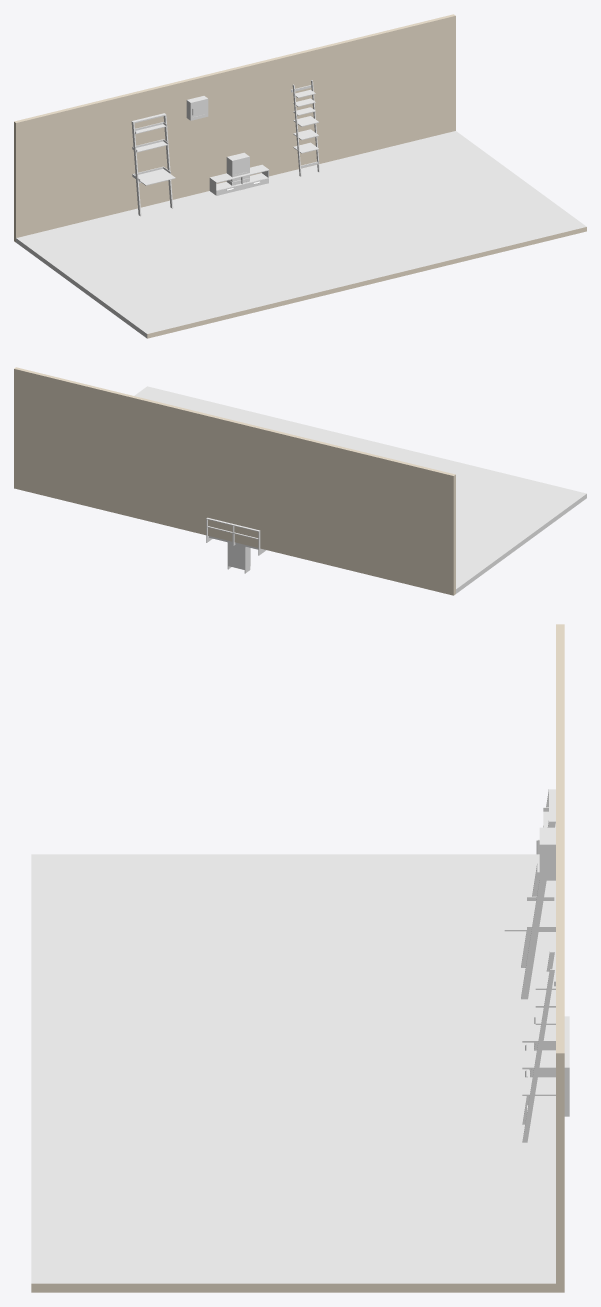
The model's file is wall_cabinet.glb.
The picture shows the model from 3 angles, top to bottom: view 1: azimuth 30°, elevation 25°; view 2: azimuth 150°, elevation 25°; view 3: azimuth 270°, elevation 25°; orthographic projection. The views are drawn at different scales.
Parts seen in each view (by area): view 1: Plane, escritorio-salon, stand-blanco, mesa-tv, stand-alto, stand-cuadro.001; view 2: Plane, stand-alto, mesa-tv; view 3: Plane, stand-blanco, escritorio-salon, stand-cuadro.001, mesa-tv.
Part boxes in pixels (x1,y1,x2,y2): Plane: [14, 14, 586, 338]; escritorio-salon: [131, 113, 175, 216]; stand-blanco: [291, 80, 319, 176]; mesa-tv: [209, 164, 269, 195]; stand-alto: [226, 152, 249, 181]; stand-cuadro.001: [186, 96, 208, 120]; Plane: [14, 367, 586, 595]; stand-alto: [227, 542, 250, 573]; mesa-tv: [206, 517, 266, 555]; Plane: [31, 624, 564, 1292]; stand-blanco: [522, 951, 555, 1142]; escritorio-salon: [504, 789, 555, 999]; stand-cuadro.001: [536, 827, 555, 880]; mesa-tv: [525, 1016, 569, 1116].
Bounding box in the file's own units: 10 × 3.27 × 5.3.
